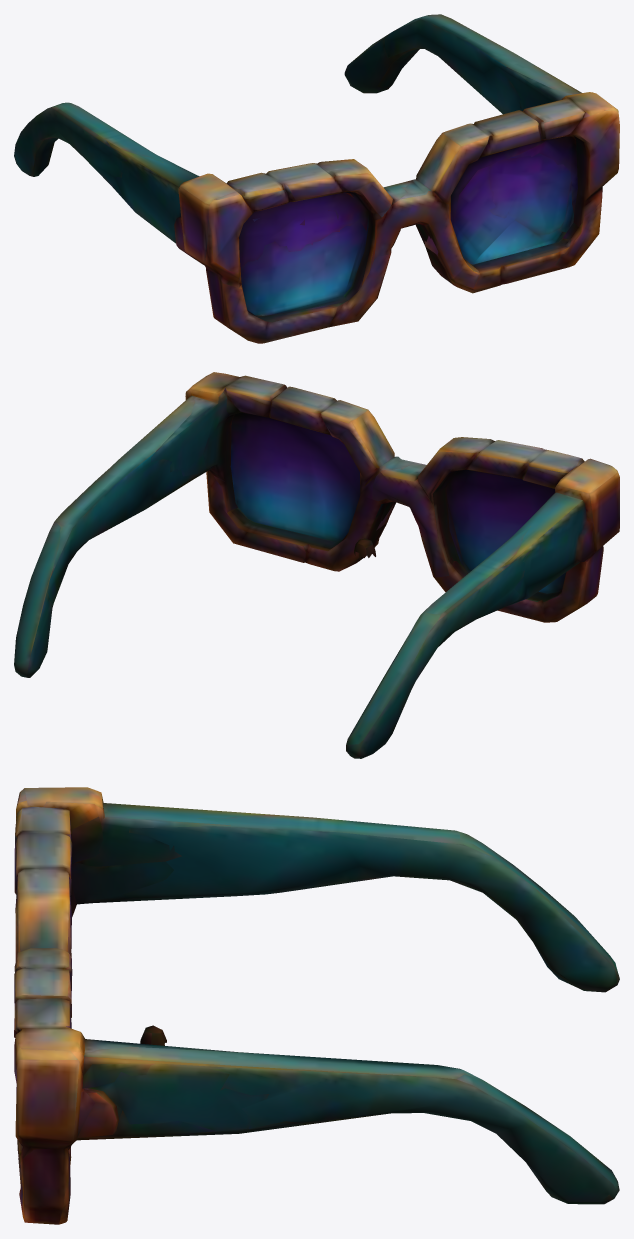
3 views of the same model, one above another, from view 1: azimuth 30°, elevation 25°; view 2: azimuth 150°, elevation 25°; view 3: azimuth 270°, elevation 25° (orthographic). The views are drawn at different scales.
Visible parts, largest first — view 1: material; view 2: material; view 3: material.
Boxes of the visible parts, bbox=[...] form: material: bbox=[14, 14, 619, 343]; material: bbox=[14, 372, 619, 758]; material: bbox=[14, 787, 619, 1224].
Size of the model in its own units: 0.746 by 0.2736 by 0.7169.
1 material, 1 textured.
